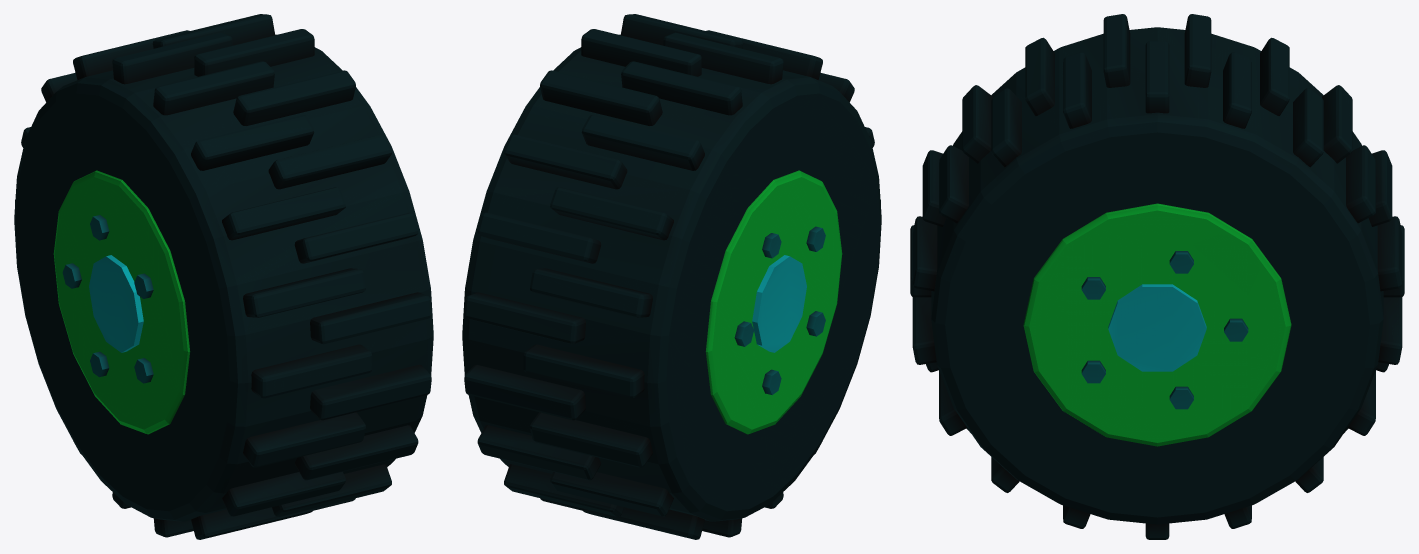
File: tyre_balloon.glb
3 renders of one model, left to right at view 1: azimuth 30°, elevation 25°; view 2: azimuth 150°, elevation 25°; view 3: azimuth 270°, elevation 25°, orthographic.
Visible parts, largest first — view 1: tyre_balloon; view 2: tyre_balloon; view 3: tyre_balloon.
Part boxes in pixels (x1,y1,x2,y2): tyre_balloon: [14, 14, 433, 539]; tyre_balloon: [462, 14, 881, 539]; tyre_balloon: [910, 14, 1404, 539].
Size of the model in its own units: 0.388 by 0.7236 by 0.7236.
Materials: 1 (1 with a texture image).
